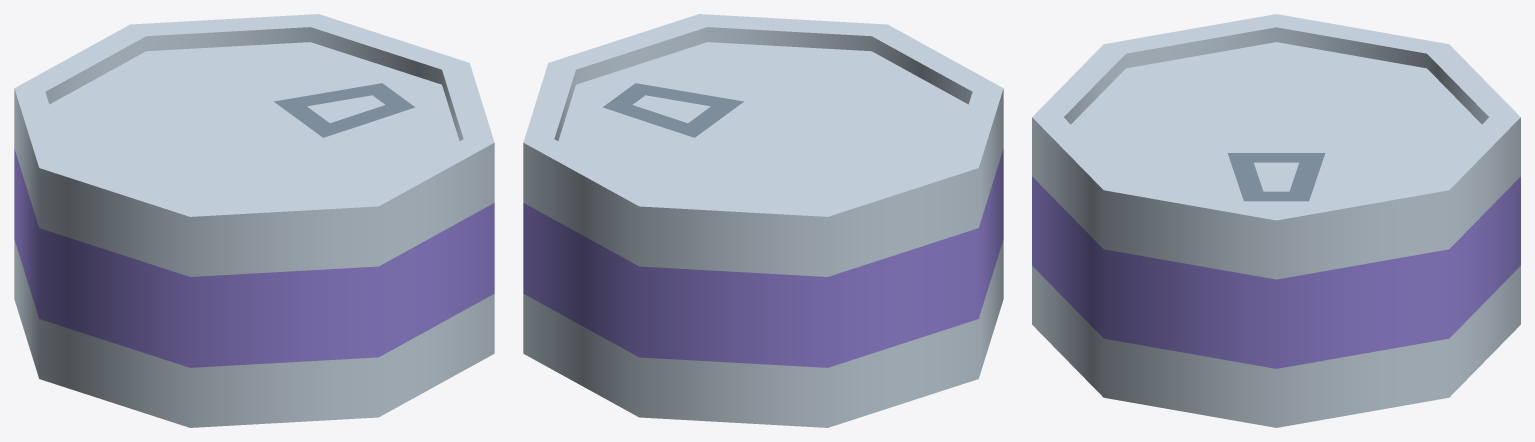
The model's file is canSmall.obj.
3 renders of one model, left to right at view 1: azimuth 30°, elevation 25°; view 2: azimuth 150°, elevation 25°; view 3: azimuth 270°, elevation 25°, orthographic.
Parts seen in each view (by area): view 1: canSmall; view 2: canSmall; view 3: canSmall.
Part boxes in pixels (bbox=[...]): canSmall: bbox=[14, 14, 494, 427]; canSmall: bbox=[523, 14, 1003, 427]; canSmall: bbox=[1032, 14, 1520, 427].
Size of the model in its own units: 0.3 by 0.1405 by 0.3.
